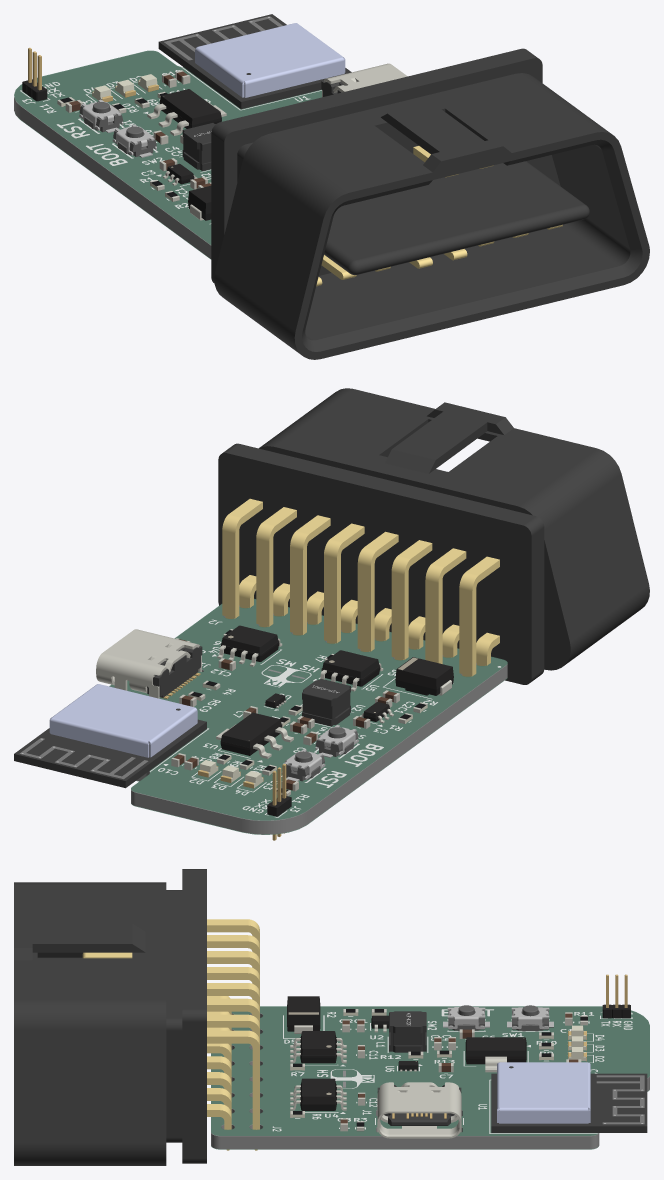
Rendered from CANcast.glb.
The picture shows the model from 3 angles, top to bottom: view 1: azimuth 30°, elevation 25°; view 2: azimuth 150°, elevation 25°; view 3: azimuth 270°, elevation 25°; orthographic projection. The views are drawn at different scales.
Visible parts, largest first — view 1: J2, =>[0:1:1:20], =>[0:1:1:18], U1, U3, =>[0:1:1:16], J1, L1, SW2, SW1, J3, D5; view 2: J2, =>[0:1:1:20], =>[0:1:1:18], U1, J1, =>[0:1:1:16], U3, L1, D5, U4, U5, SW2 (+2 smaller); view 3: J2, =>[0:1:1:20], =>[0:1:1:18], U1, J1, =>[0:1:1:16], U3, U5, U4, L1, D5, SW1 (+2 smaller).
Boxes of the visible parts, <box> form: J2: <box>211,48,649,359</box>; =>[0:1:1:20]: <box>14,51,321,258</box>; =>[0:1:1:18]: <box>14,50,321,244</box>; U1: <box>158,14,351,109</box>; U3: <box>147,89,226,135</box>; =>[0:1:1:16]: <box>20,66,321,224</box>; J1: <box>321,63,407,97</box>; L1: <box>182,123,215,171</box>; SW2: <box>112,124,156,157</box>; SW1: <box>79,99,123,132</box>; J3: <box>22,47,47,101</box>; D5: <box>188,185,211,220</box>; J2: <box>218,388,649,684</box>; =>[0:1:1:20]: <box>111,600,507,834</box>; =>[0:1:1:18]: <box>109,598,507,820</box>; U1: <box>14,684,206,788</box>; J1: <box>96,629,202,698</box>; =>[0:1:1:16]: <box>150,619,500,817</box>; U3: <box>216,712,293,758</box>; L1: <box>302,679,350,726</box>; D5: <box>395,657,453,695</box>; U4: <box>217,625,282,666</box>; U5: <box>320,650,383,691</box>; SW2: <box>315,725,358,757</box>; J2: <box>14,869,259,1165</box>; =>[0:1:1:20]: <box>211,1007,649,1149</box>; =>[0:1:1:18]: <box>211,1006,649,1135</box>; U1: <box>491,1062,647,1132</box>; J1: <box>377,1082,461,1138</box>; =>[0:1:1:16]: <box>272,1009,632,1133</box>; U3: <box>465,1037,526,1072</box>; U5: <box>290,1031,346,1063</box>; U4: <box>290,1078,346,1110</box>; L1: <box>389,1011,426,1052</box>; D5: <box>287,996,320,1033</box>; SW1: <box>507,1005,553,1031</box>.
Bounding box in the file's own units: 0.0413 × 0.0191 × 0.0676.
